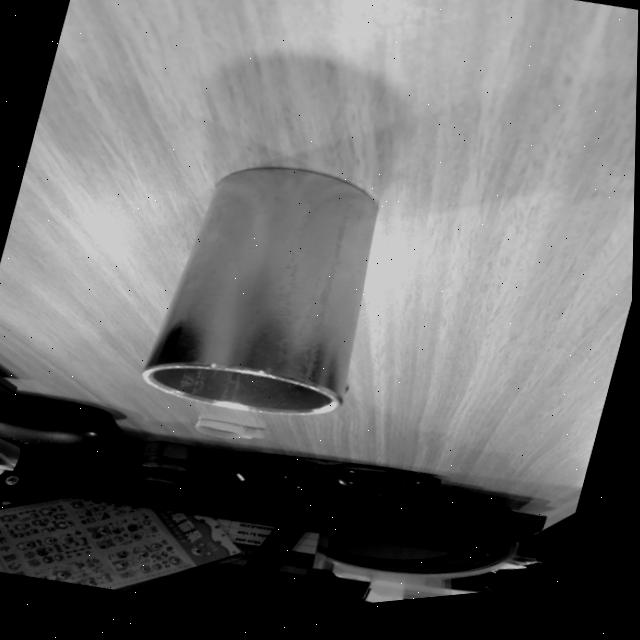Co_Lon: (138, 148, 381, 425)
